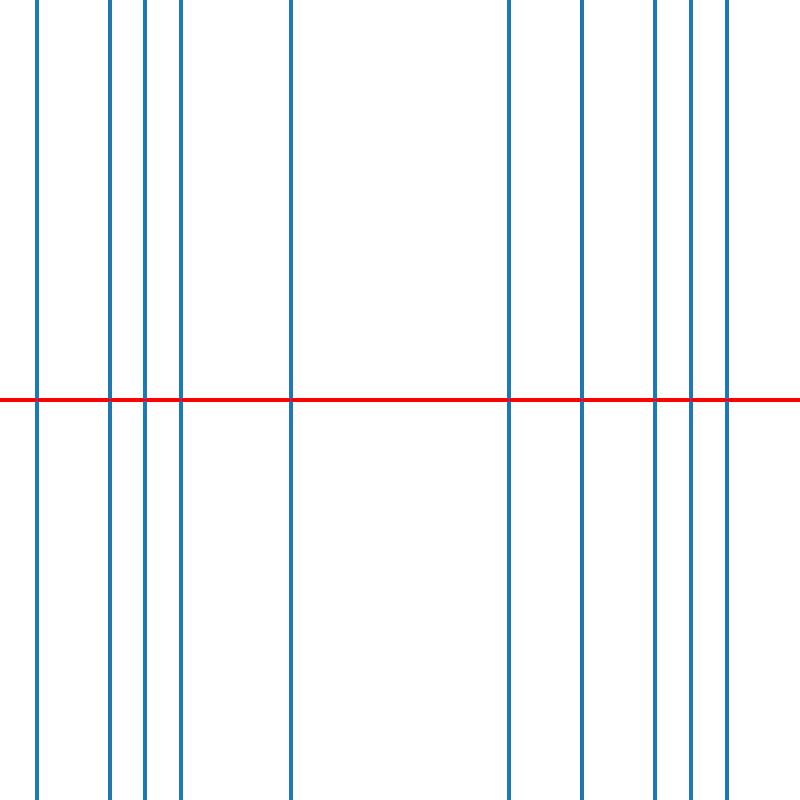root: (650, 396, 658, 404), (32, 396, 40, 404), (141, 396, 149, 404), (578, 396, 585, 404), (505, 396, 512, 404), (105, 396, 112, 404), (687, 396, 694, 404), (287, 396, 294, 404), (178, 396, 185, 404), (723, 396, 730, 404)
